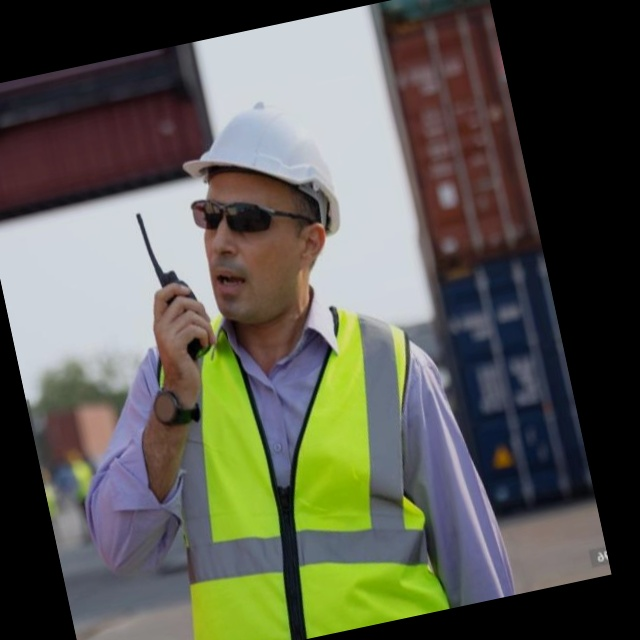Con_Casco: (170, 90, 359, 328)
Con_Chaleco: (123, 290, 467, 640)
